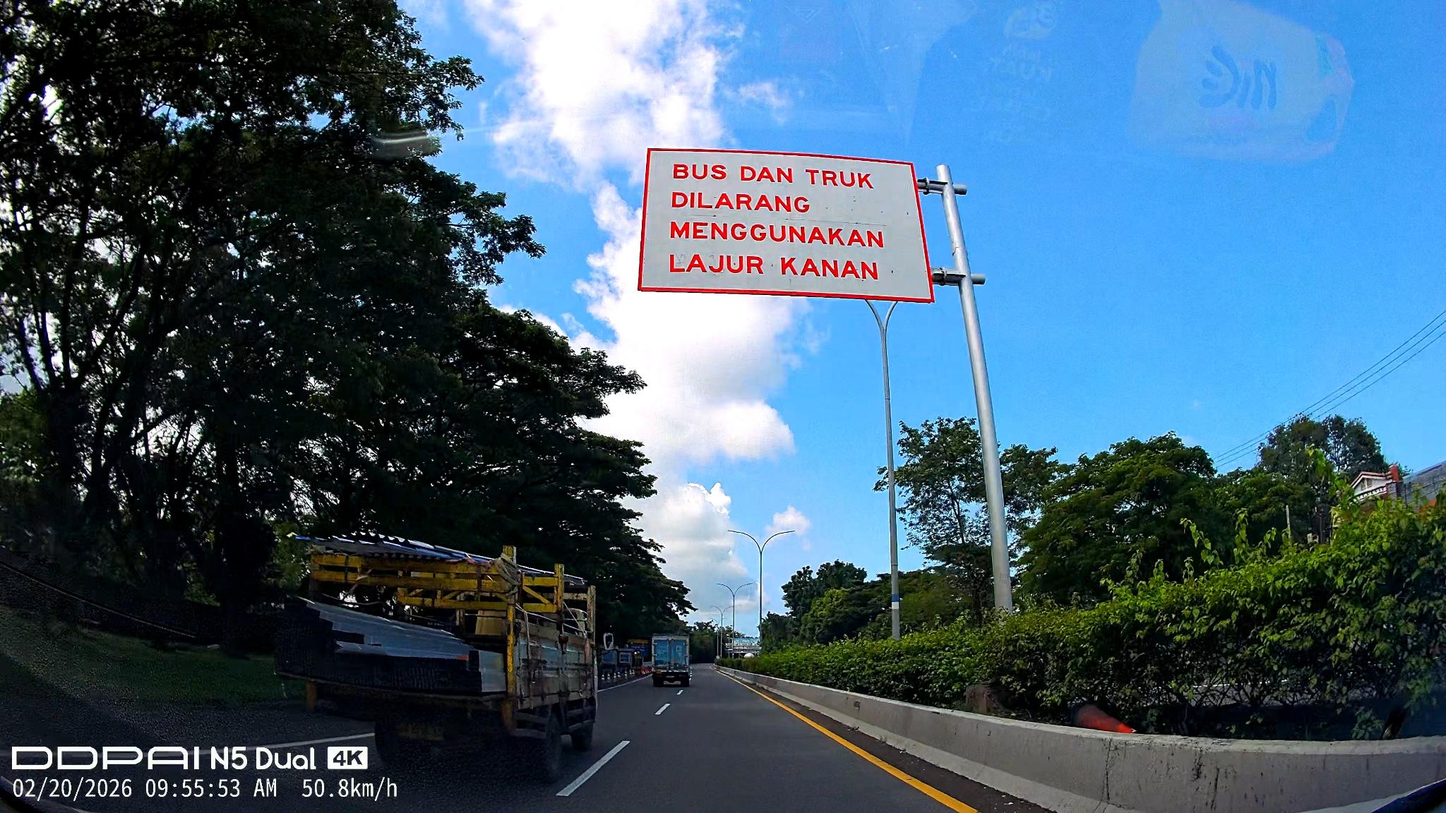rambu_teks: (635, 146, 936, 304)
